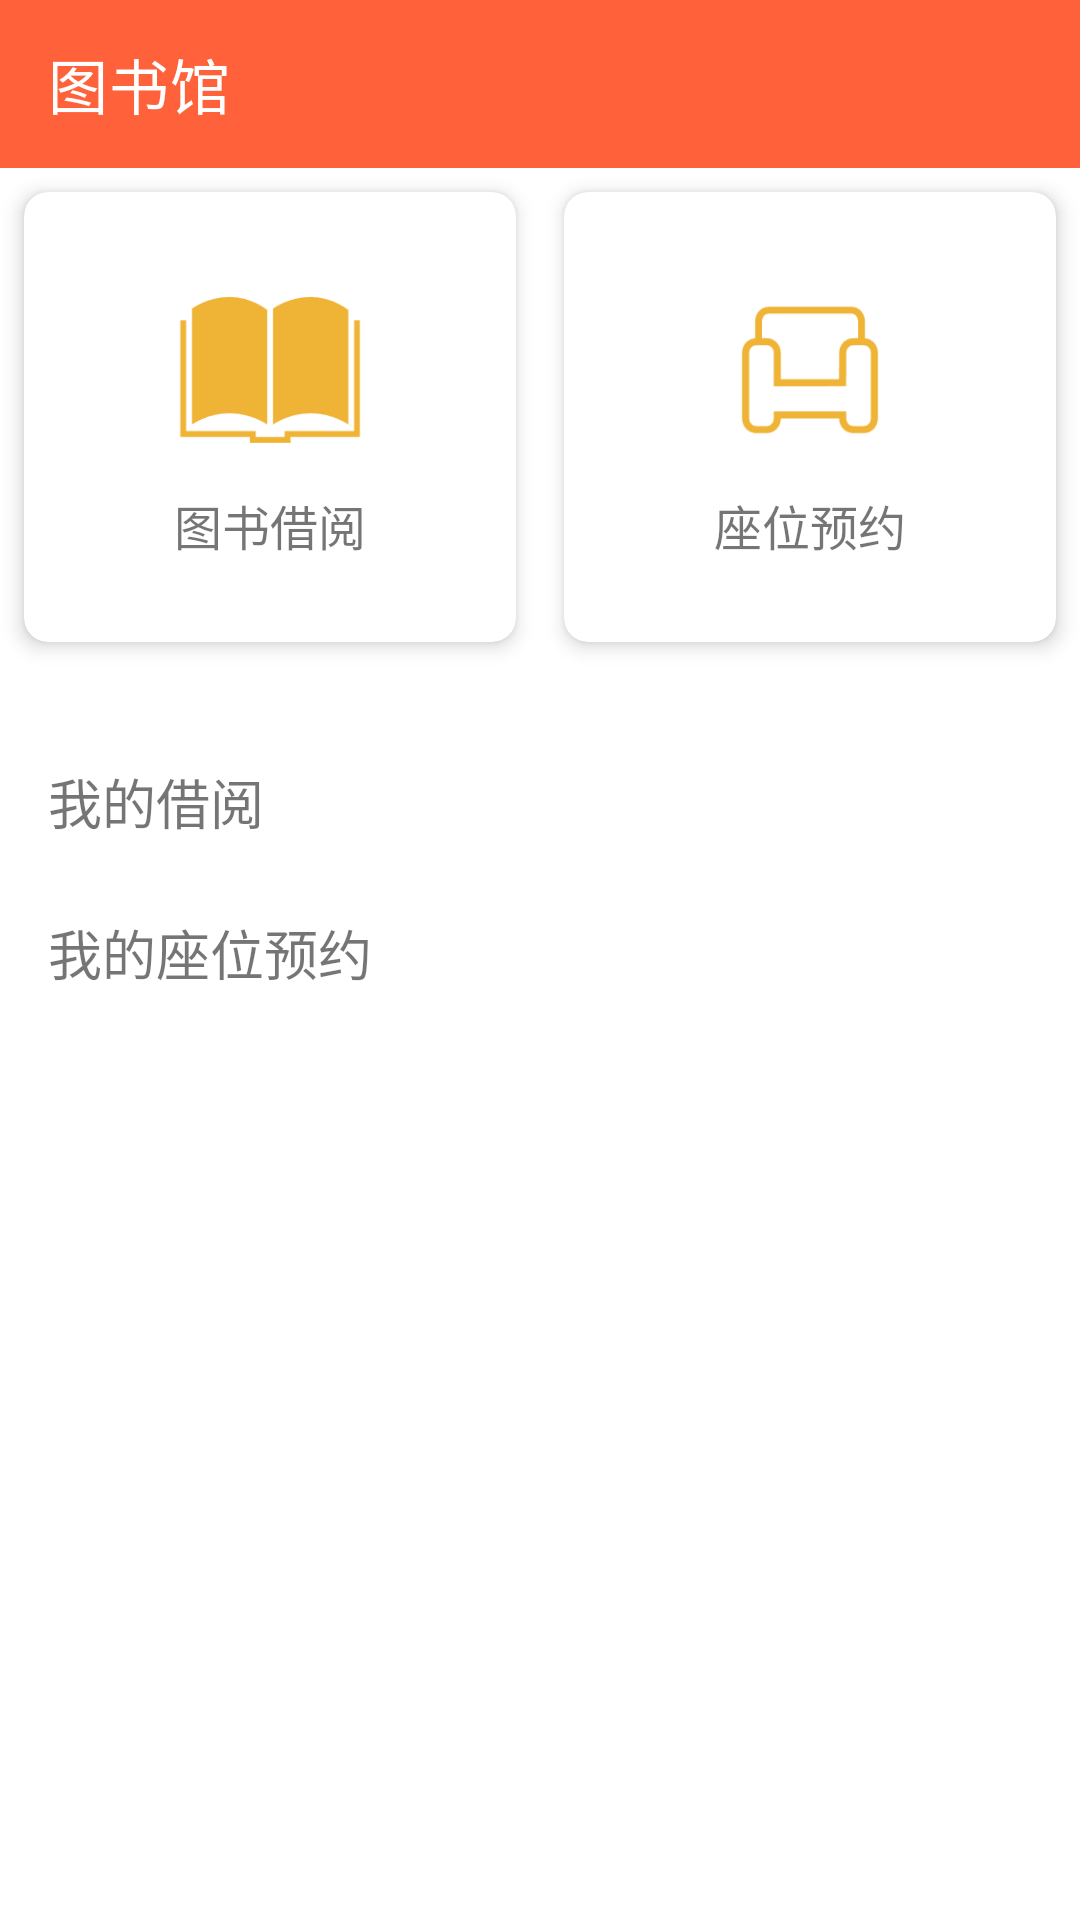

Icon bounding boxes for this 1080w x 1920h phone screenshot, format (x1, y1, x2, y2):
seat: (742, 306, 878, 434)
